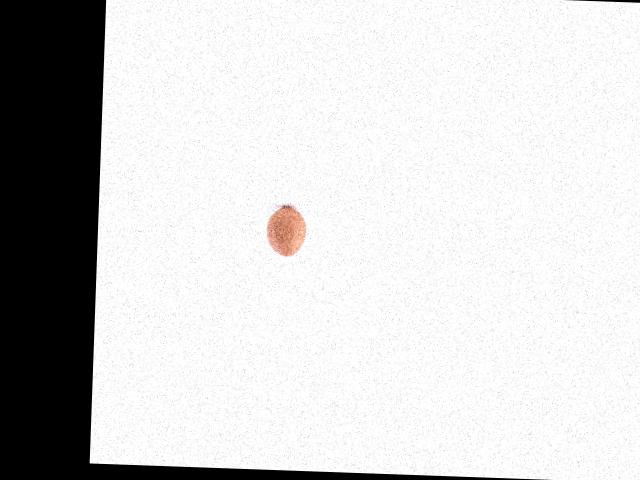egg: (264, 206, 306, 257)
